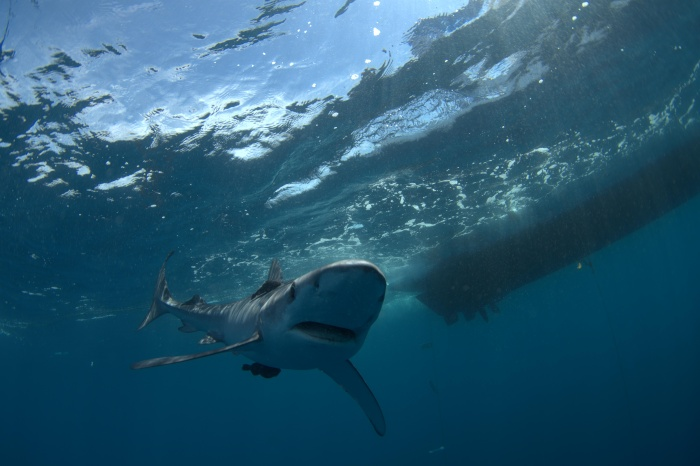Azul: (124, 231, 436, 440)
